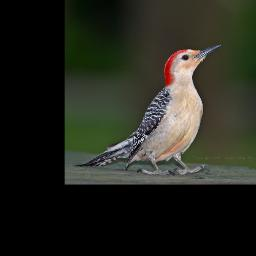Woodpecker: (73, 42, 225, 176)
